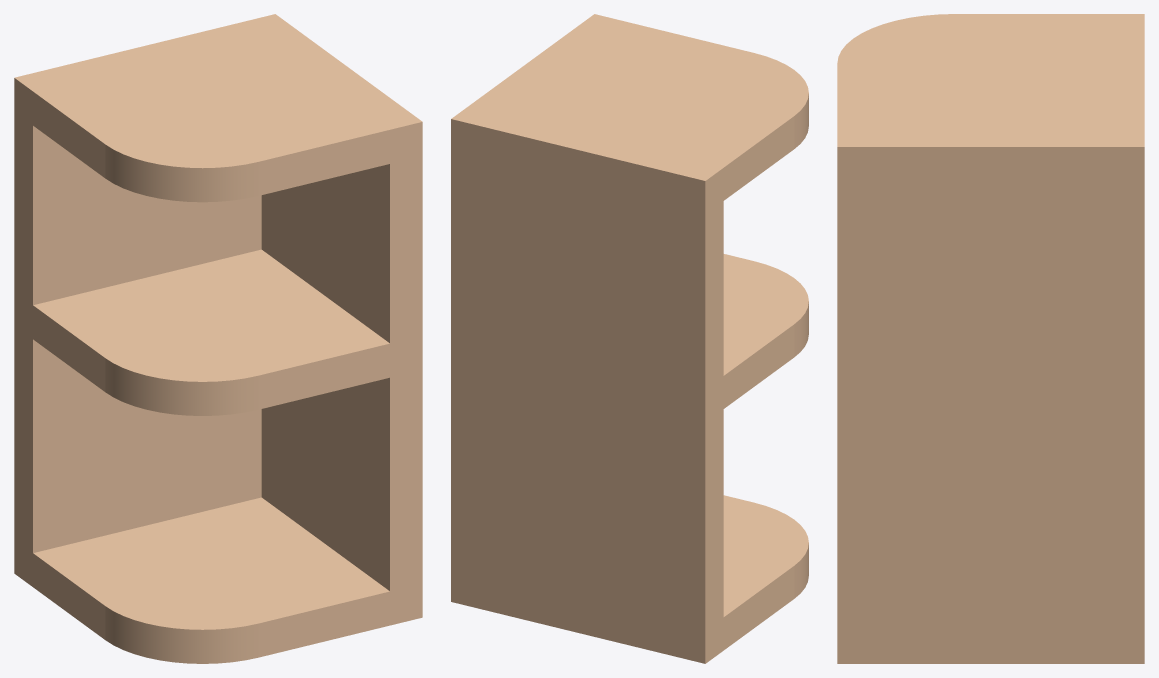
The model's file is kitchen_cabinet_upper_corner$col.glb.
3 views of the same model, side by side, from view 1: azimuth 30°, elevation 25°; view 2: azimuth 150°, elevation 25°; view 3: azimuth 270°, elevation 25° (orthographic). The views are drawn at different scales.
Visible parts, largest first — view 1: kitchenCabinetUpperCorner(Clone)$col; view 2: kitchenCabinetUpperCorner(Clone)$col; view 3: kitchenCabinetUpperCorner(Clone)$col.
Boxes of the visible parts, left/top/right/bottom form: kitchenCabinetUpperCorner(Clone)$col: left=14, top=14, right=422, bottom=663; kitchenCabinetUpperCorner(Clone)$col: left=451, top=14, right=808, bottom=663; kitchenCabinetUpperCorner(Clone)$col: left=837, top=14, right=1144, bottom=663.
Size of the model in its own units: 0.215 by 0.39 by 0.21.
